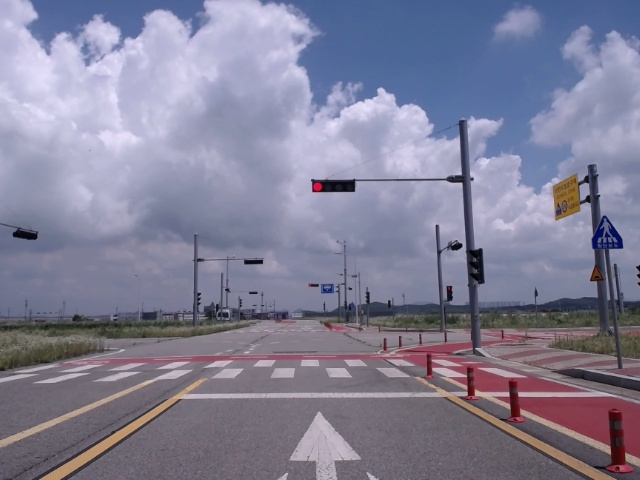red_4: (312, 180, 355, 193)
